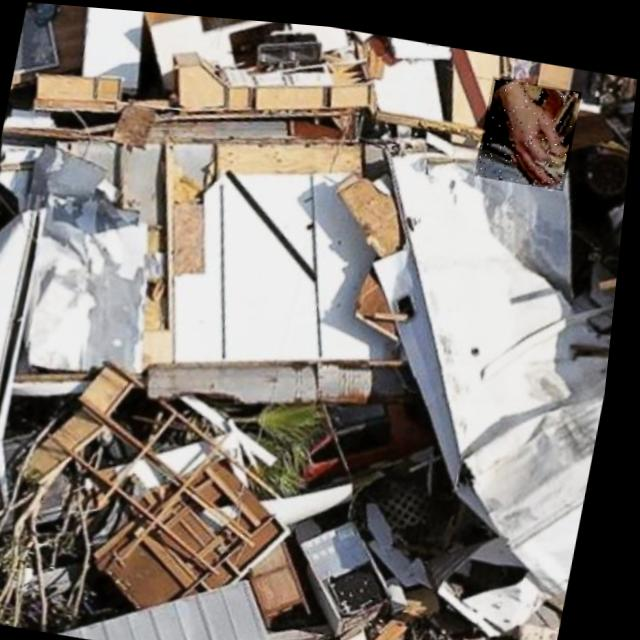Person in Rubble: (476, 68, 583, 181)
